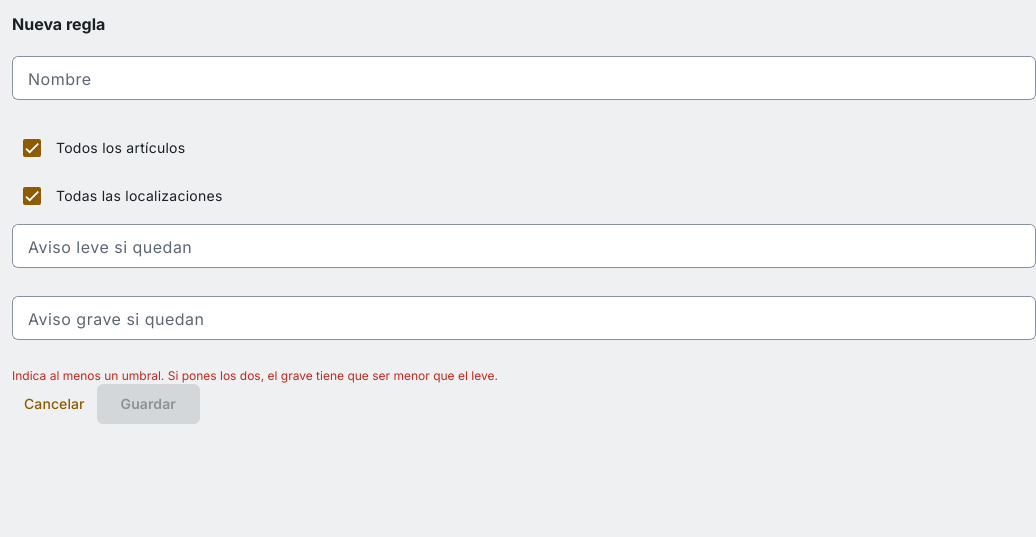
AlertRuleDialogComponent › pide al menos un artículo si no se marca "Todos los artículos"
Click the checkbox labelled "Todos los artículos". click: (104, 148)
box: [23,139,185,157]
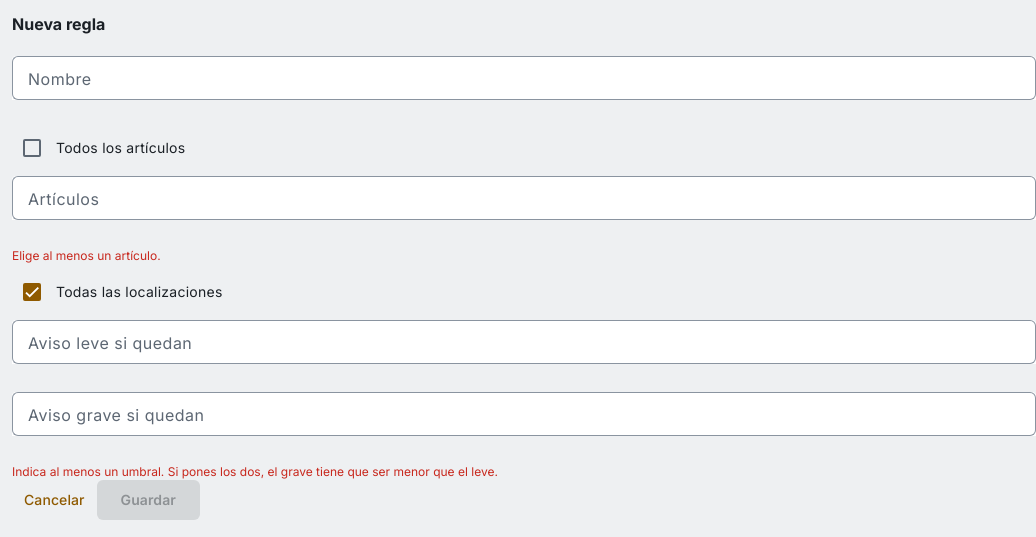
Expected: the button "Guardar" is disabled, [97,480,200,520]
Now the text "Elige al menos un artículo." is shown, box [12,248,161,263]
